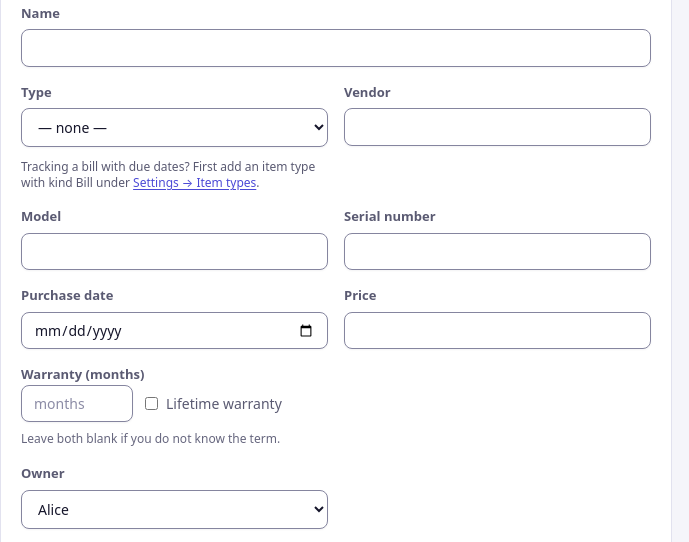
Test case: NewWarrantyClient › reads "Covered through" with no type selected, and follows the SELECTED type kind live
(page scrolled)
Type "2026-01-31" into the date field named "purchaseDate" at (174, 331), box [21,312,328,349]
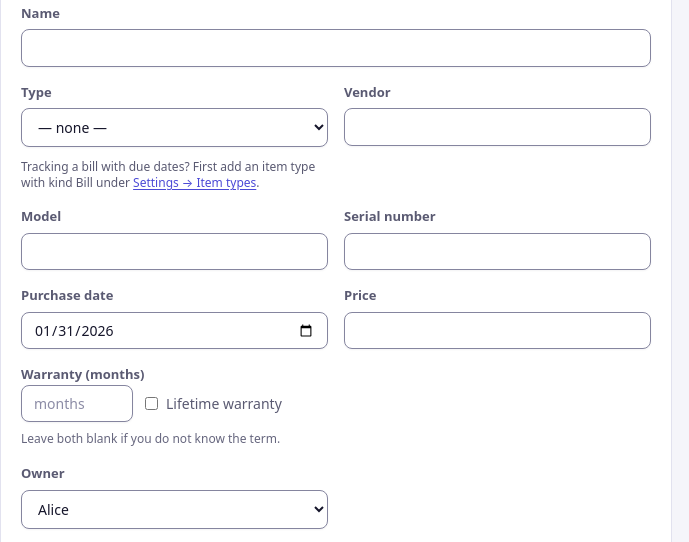
Type "1" into the number field named "warrantyMonths" at (77, 404), box [21,385,133,422]
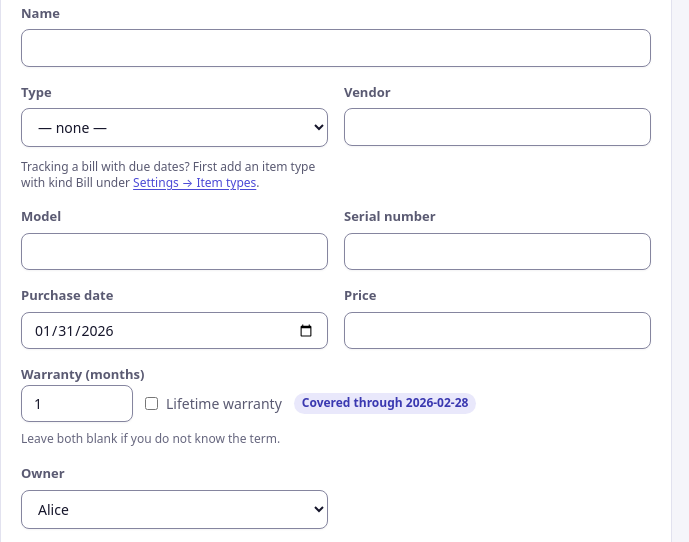
Result: the text "Covered through 2026-02-28" is shown at [294,393,476,414]
Select "Netflix plan" in the dropdown named "typeId" at (174, 128), box [21,108,328,147]
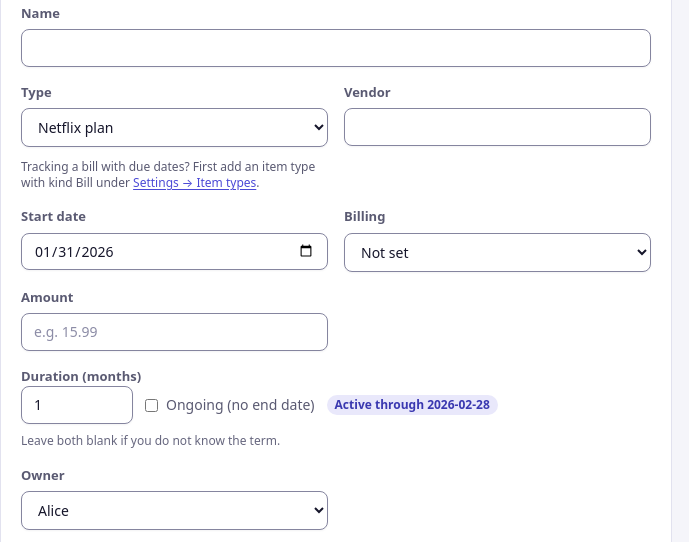
Result: the text "Active through 2026-02-28" is shown at [327,395,498,416]
Result: the text "Covered through 2026-02-28" is gone
Select "Car loan" in the dropdown named "typeId" at (174, 128), box [21,108,328,147]
(page scrolled)
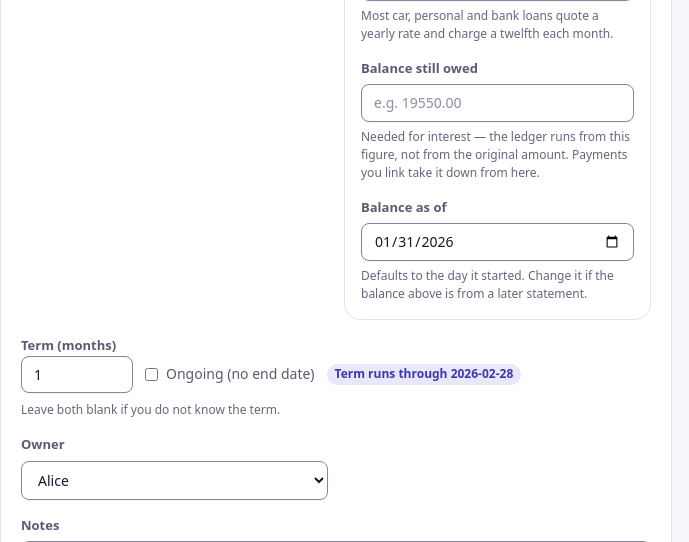
Result: the text "Term runs through 2026-02-28" is shown at [327,364,521,385]
